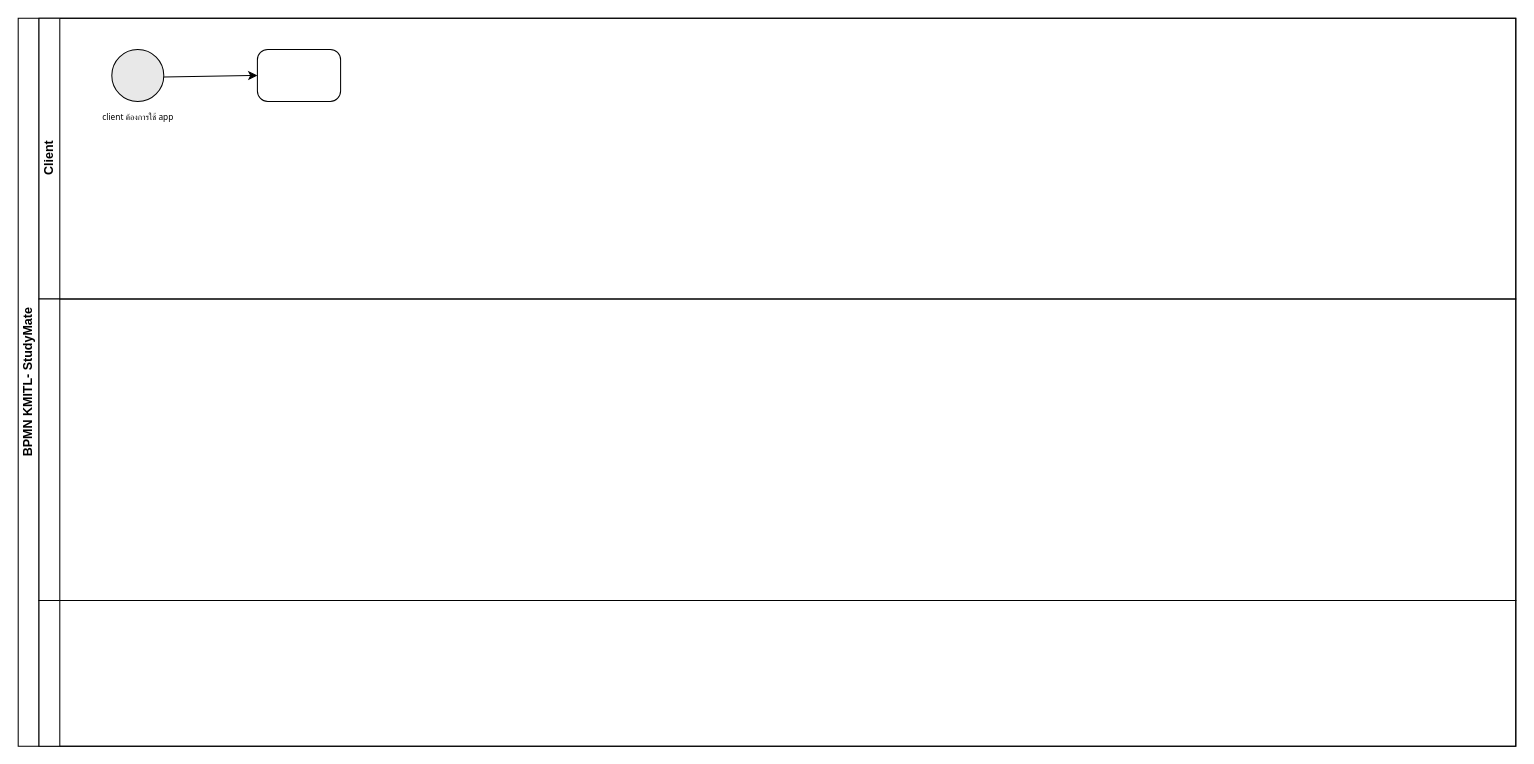
The diagram is 1534 pixels wide and 764 high, and some of its shapes have lost their labels. The centre of each missing label's shape, as x and y in pixels:
"Server" goes at point (777, 449).
"Service" goes at point (777, 673).
